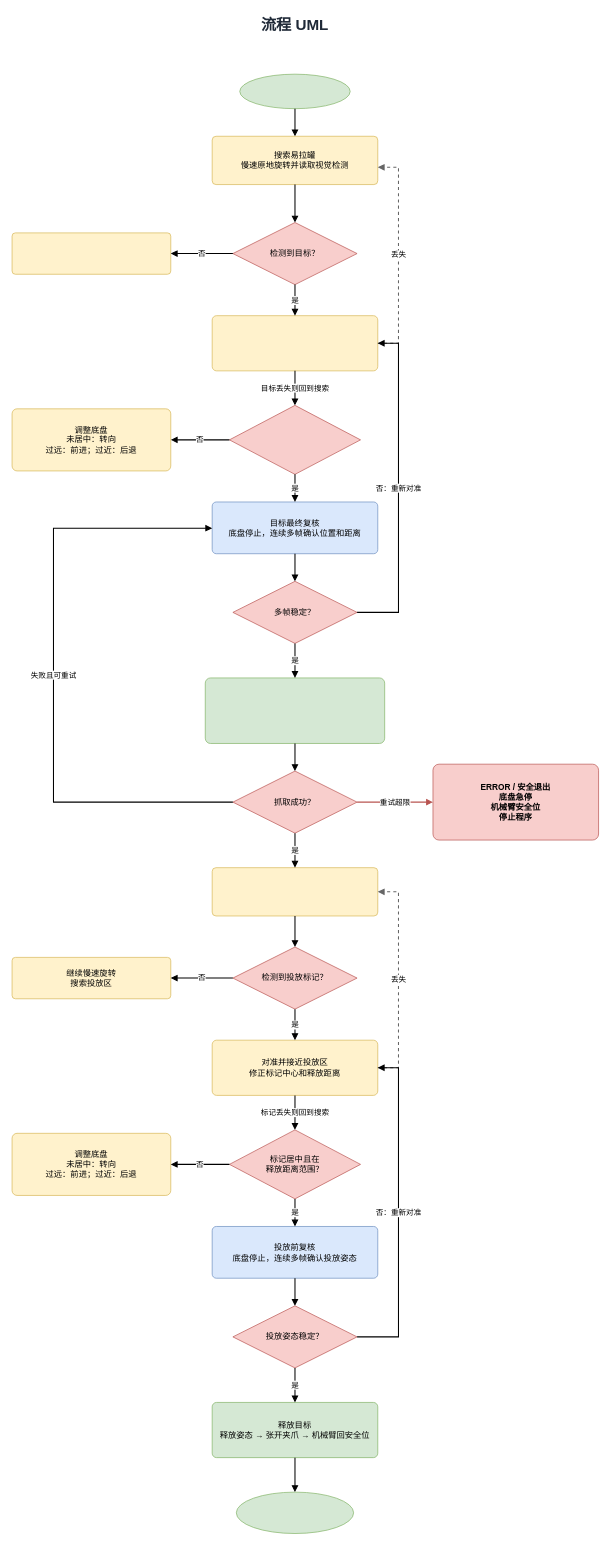
Image size: 611x1546. Some labels were removed from this diagram. The shapes that lost their labels are listed below. From the top down, each one's centre as x and y in pixels, then its label:
At point 294,91: "开始".
At point 91,253: "继续慢速旋转 保持搜索".
At point 294,343: "对准并接近目标 左/右转修正中心；前进/后退修正距离".
At point 295,439: "目标居中且在预定 抓取距离范围？".
At point 295,710: "执行抓取序列 底盘停止 → 机械臂根据预设角度运动 → 张开夹爪抓取 → 闭合 → 抬升 → 搬运姿态".
At point 294,891: "搜索投放区标记 AprilTag".
At point 295,1512: "安全停止 任务完成".
